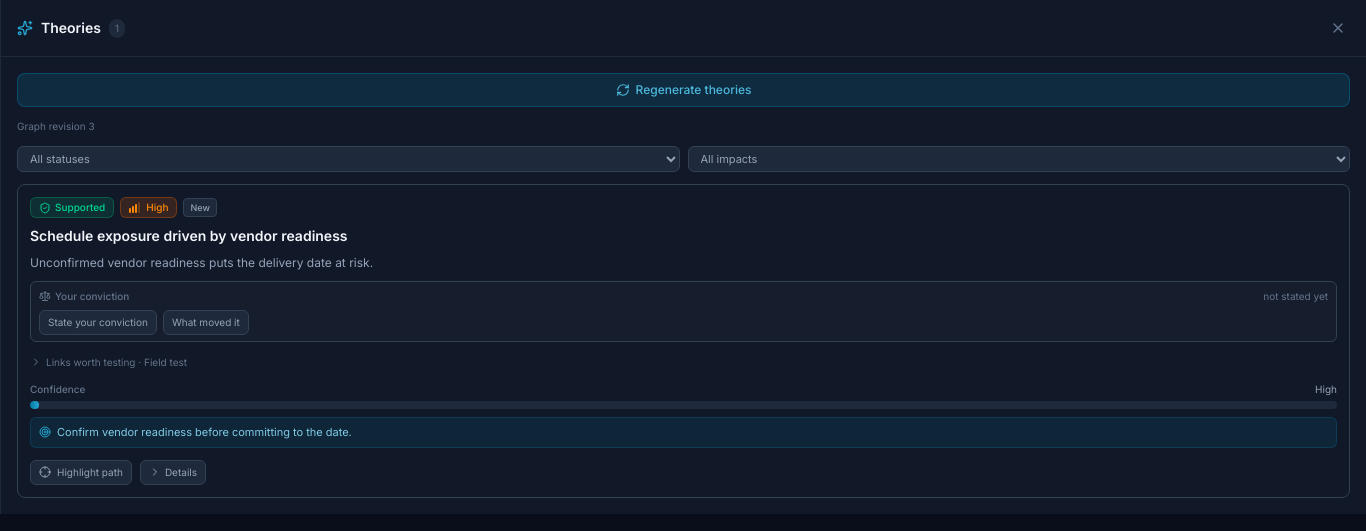
Scenario: TheoryPanel filtering › explains when filters hide everything
This screenshot has width=1366, height=531.
Select "Contested" in the 1st dropdown named "filter by status" at coordinates (348, 159), box x1=17 y1=146 x2=680 y2=172
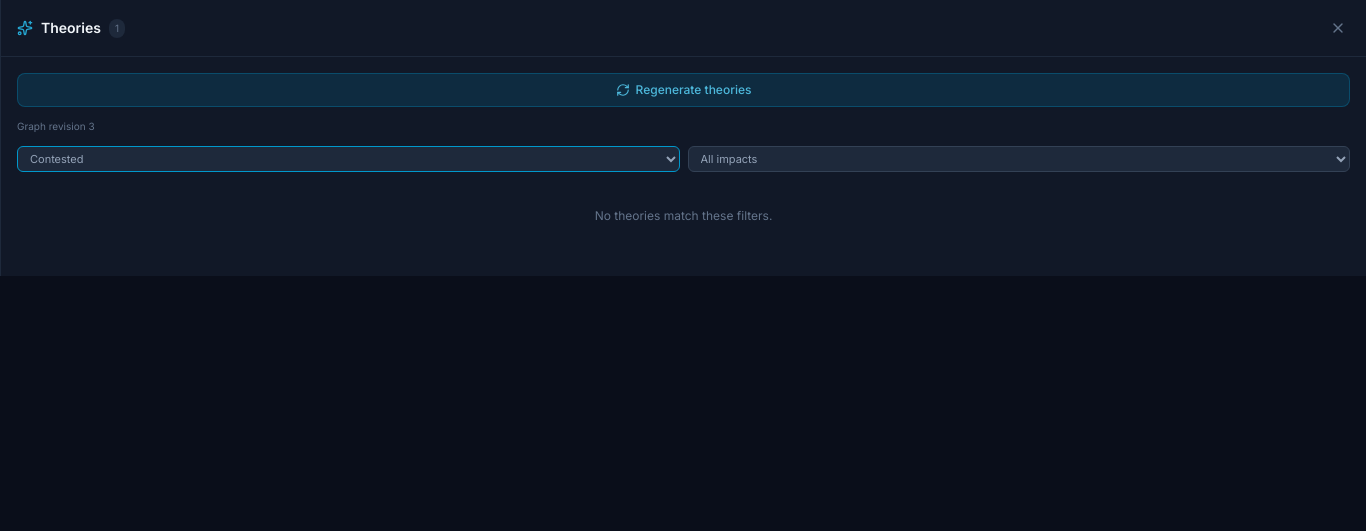
Check: the text "No theories match these filters." is shown, box x1=595 y1=208 x2=772 y2=223
